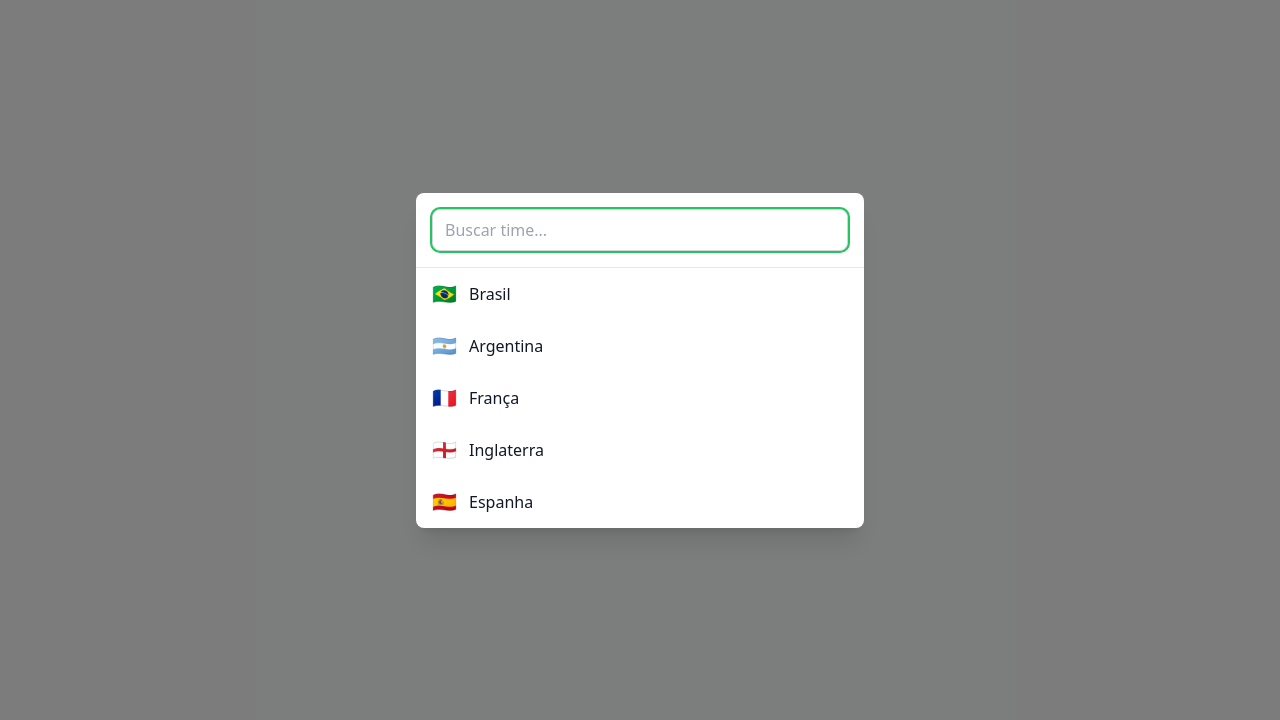
it: TeamPicker › shows empty message when search matches no team
The image size is (1280, 720).
Step 1. Type "xyz" into the field with placeholder "Buscar time..." → (640, 230), box [432,208,848,250]
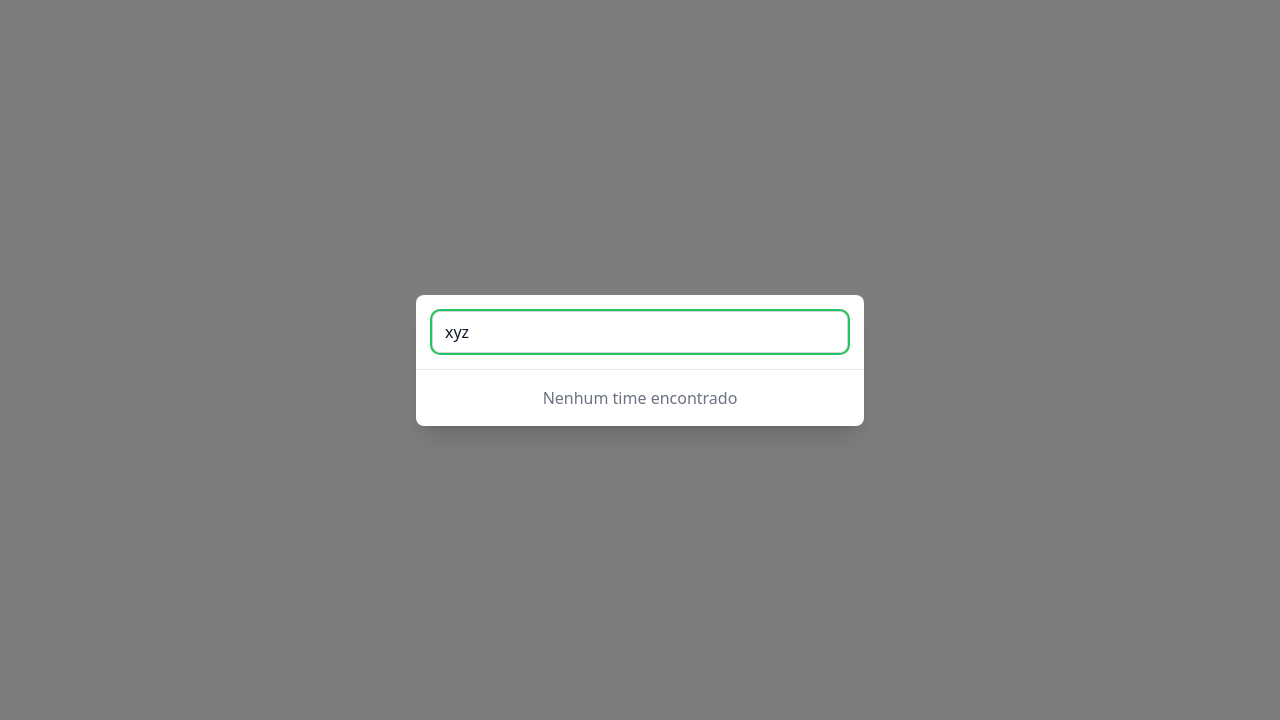
Expected: the text "Nenhum time encontrado" is shown, [543,386,737,408]
Expected: the button "Brasil" is gone
